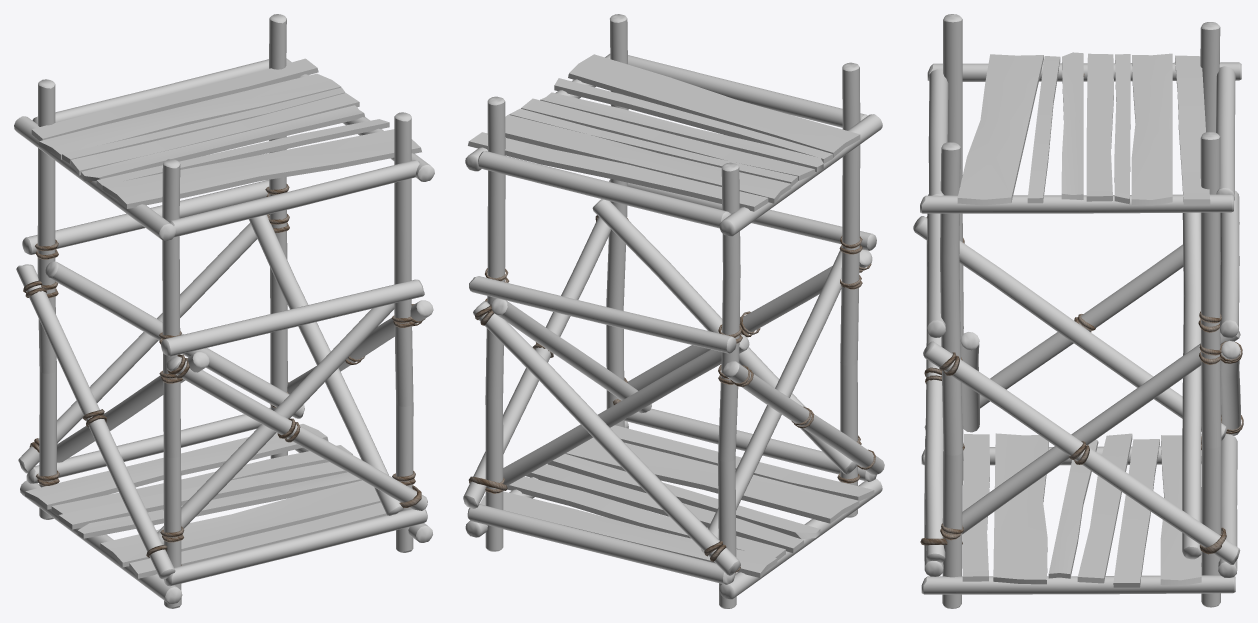
Rendered from SM_Wooden_Scaffolding_02a.fbx.
3 views of the same model, side by side, from view 1: azimuth 30°, elevation 25°; view 2: azimuth 150°, elevation 25°; view 3: azimuth 270°, elevation 25° (orthographic). The views are drawn at different scales.
Parts seen in each view (by area): view 1: SM_Wooden_Scaffolding_02a_LOD0; view 2: SM_Wooden_Scaffolding_02a_LOD0; view 3: SM_Wooden_Scaffolding_02a_LOD0.
Boxes of the visible parts, bbox=[...] form: SM_Wooden_Scaffolding_02a_LOD0: bbox=[14, 14, 434, 608]; SM_Wooden_Scaffolding_02a_LOD0: bbox=[463, 14, 884, 608]; SM_Wooden_Scaffolding_02a_LOD0: bbox=[913, 14, 1243, 608].
Size of the model in its own units: 288 by 271 by 424.
